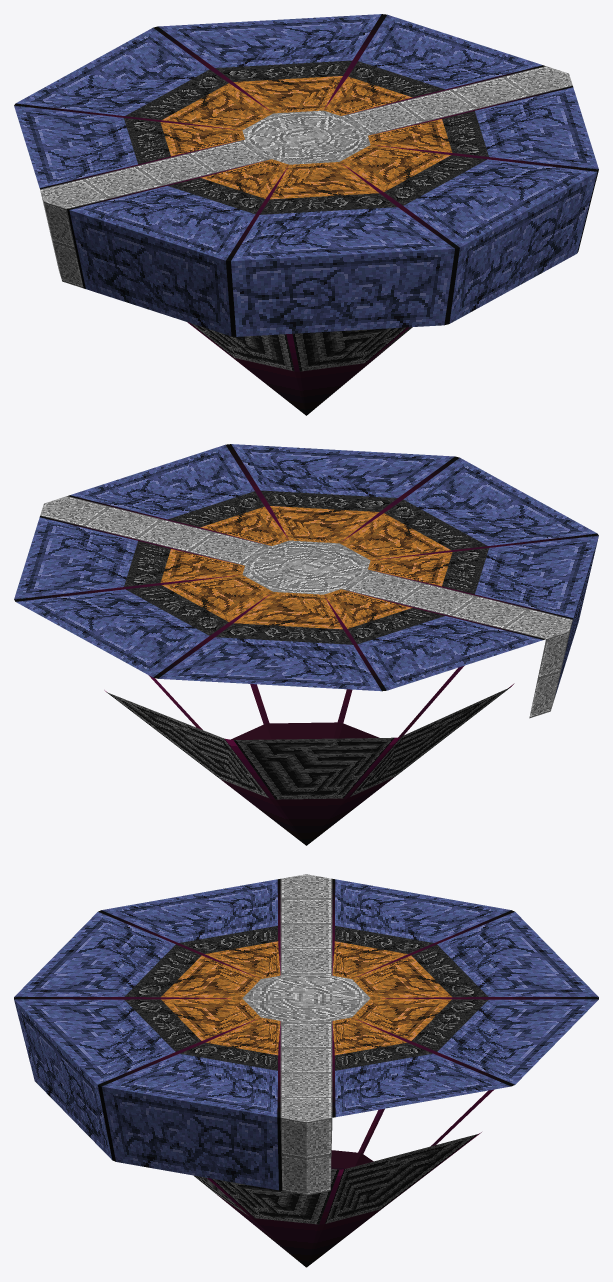
The model's file is final_destination.obj.
3 views of the same model, one above another, from view 1: azimuth 30°, elevation 25°; view 2: azimuth 150°, elevation 25°; view 3: azimuth 270°, elevation 25° (orthographic). The views are drawn at different scales.
Parts seen in each view (by area): view 1: rock, rock_brown, rock_writings, rock_way, lines, rock_bottom, rock_middle; view 2: rock, rock_brown, rock_bottom, rock_writings, rock_way, lines, rock_middle; view 3: rock, rock_brown, rock_way, rock_writings, lines, rock_bottom, rock_middle.
Boxes of the visible parts, x1,y1,x2,y2 form: rock: (14,14,598,336); rock_brown: (160,76,452,199); rock_writings: (124,60,488,214); rock_way: (40,66,572,288); lines: (14,14,598,415); rock_bottom: (190,323,412,371); rock_middle: (242,110,370,164); rock: (14,444,598,695); rock_brown: (160,506,452,629); rock_bottom: (106,687,510,799); rock_writings: (124,490,488,644); rock_way: (40,496,572,718); lines: (14,444,598,845); rock_middle: (242,540,370,594); rock: (14,879,598,1190); rock_brown: (161,941,451,1055); rock_way: (280,874,332,1195); rock_writings: (124,925,488,1070); lines: (14,879,598,1267); rock_bottom: (194,1134,477,1224); rock_middle: (242,973,370,1023).
Size of the model in its own units: 5.01 by 2.54 by 5.
7 materials, 7 textured.
